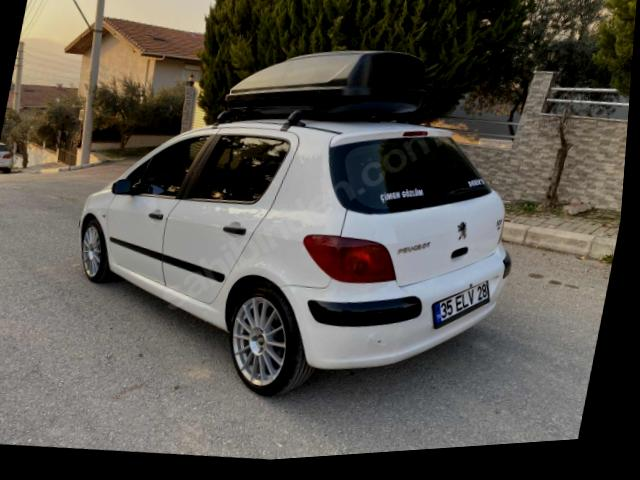plaka: (432, 281, 488, 328)
